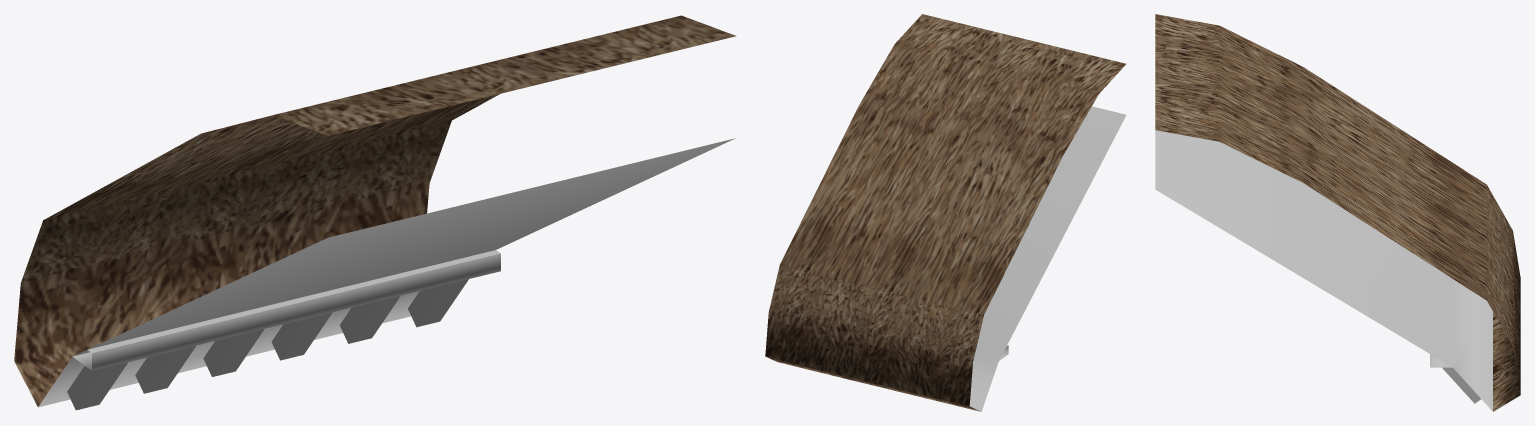
Rendered from Roof_Line_Normal_04.FBX.
3 views of the same model, side by side, from view 1: azimuth 30°, elevation 25°; view 2: azimuth 150°, elevation 25°; view 3: azimuth 270°, elevation 25° (orthographic). The views are drawn at different scales.
Parts seen in each view (by area): view 1: Roof_Line_Normal_04; view 2: Roof_Line_Normal_04; view 3: Roof_Line_Normal_04.
Boxes of the visible parts, bbox=[...] form: Roof_Line_Normal_04: bbox=[14, 15, 736, 410]; Roof_Line_Normal_04: bbox=[765, 14, 1126, 411]; Roof_Line_Normal_04: bbox=[1155, 14, 1520, 411].
Bounding box in the file's own units: 6 × 6.79 × 7.98.
